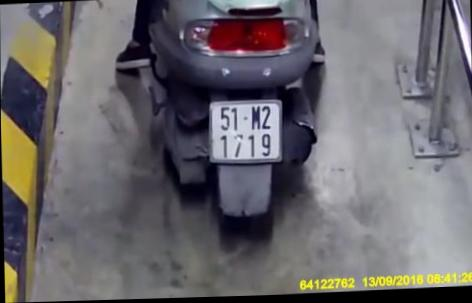LP: (206, 97, 284, 168)
